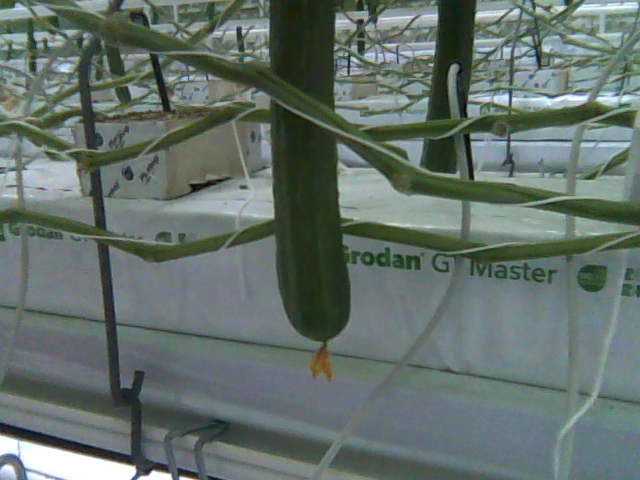concombre: (263, 1, 357, 386)
